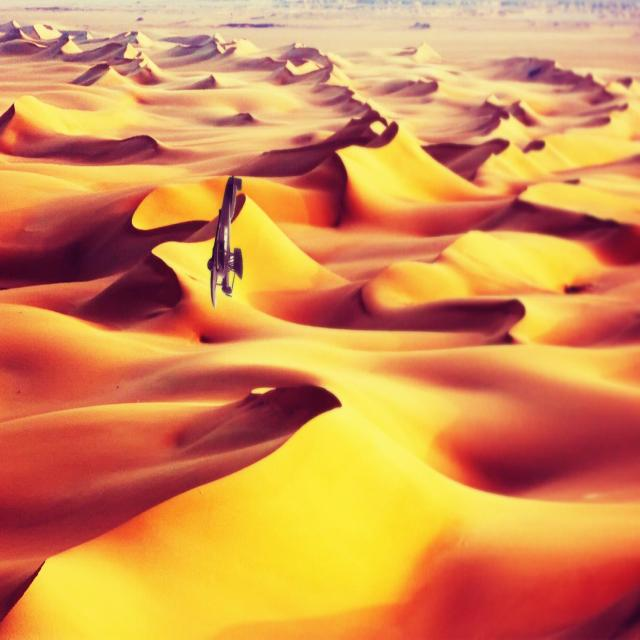airplane: (207, 172, 246, 307)
